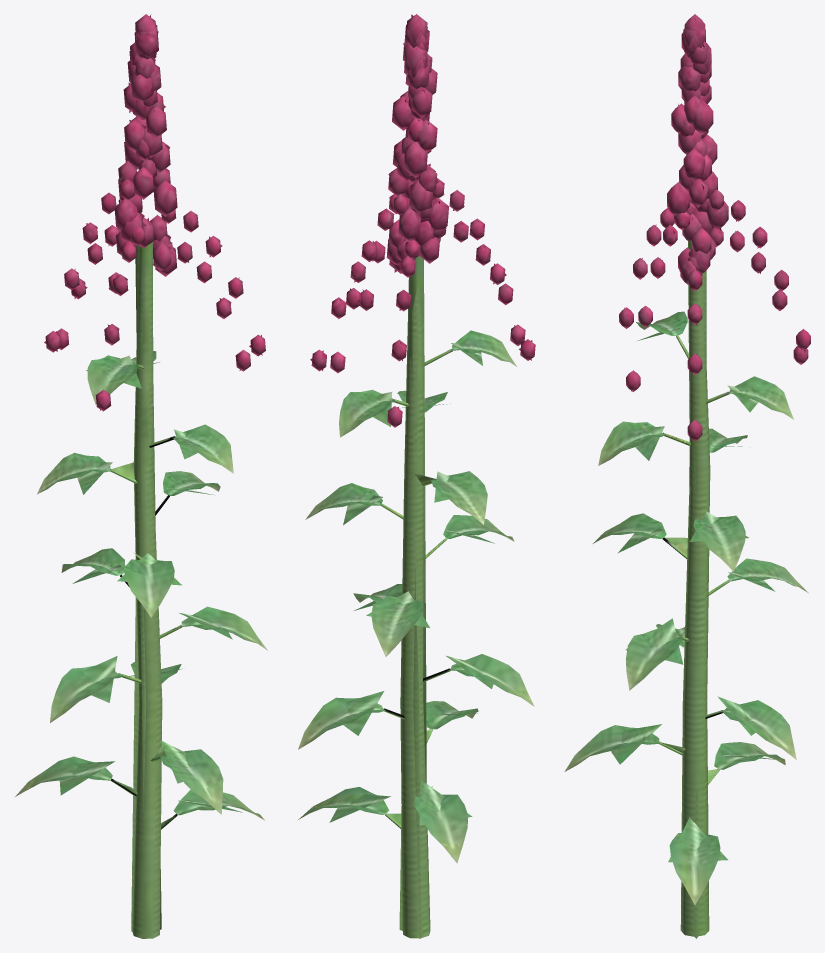
File: amaranto.glb
3 views of the same model, side by side, from view 1: azimuth 30°, elevation 25°; view 2: azimuth 150°, elevation 25°; view 3: azimuth 270°, elevation 25° (orthographic).
Parts seen in each view (by area): view 1: amaranto, amaranto_lp; view 2: amaranto, amaranto_lp; view 3: amaranto, amaranto_lp.
Boxes of the visible parts, x1,y1,x2,y2 form: amaranto: (14, 14, 267, 938); amaranto_lp: (44, 14, 262, 931); amaranto: (298, 14, 535, 938); amaranto_lp: (310, 14, 532, 938); amaranto: (564, 14, 810, 936); amaranto_lp: (611, 18, 805, 938).
Bounding box in the file's own units: 0.5122 × 1.99 × 0.4844.
Materials: 2 (2 with a texture image).
